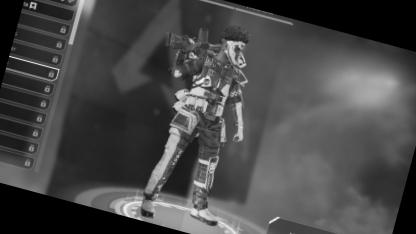Target: (168, 15, 264, 184)
